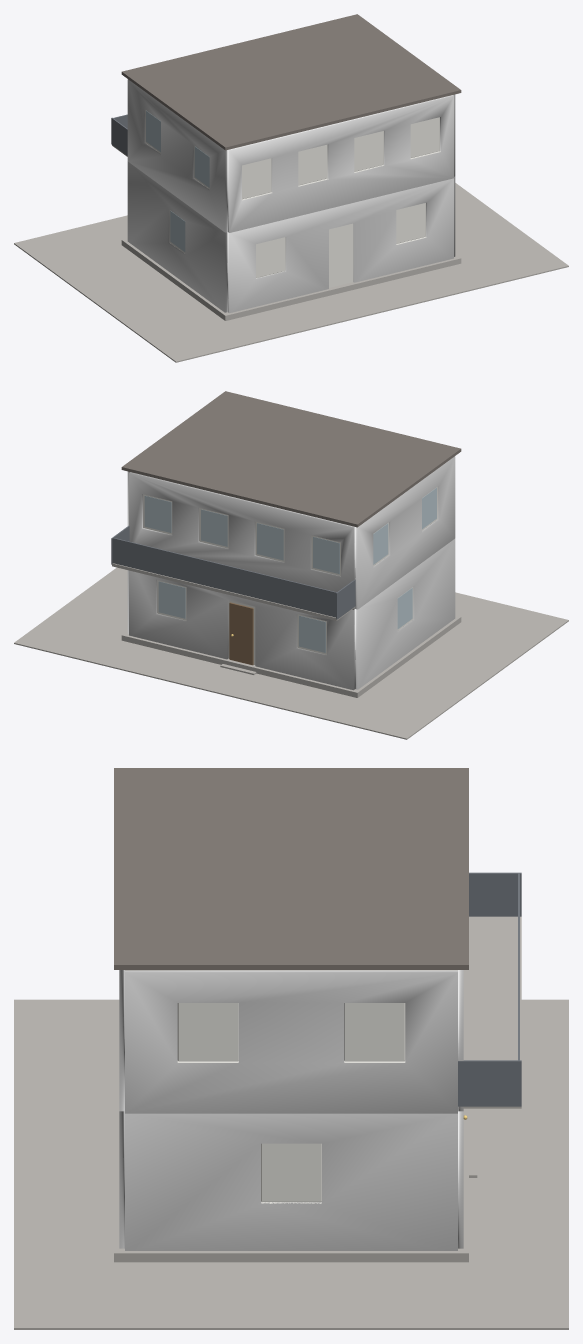
Rendered from apartment_small.glb.
3 views of the same model, one above another, from view 1: azimuth 30°, elevation 25°; view 2: azimuth 150°, elevation 25°; view 3: azimuth 270°, elevation 25° (orthographic). The views are drawn at different scales.
Visible parts, largest first — view 1: ground, roof, back_wall_uf, back_wall_gf, frame (×10), left_wall_gf, left_wall_uf, foundation, glass (×3), railing_left; view 2: ground, roof, front_wall_uf, front_wall_gf, frame (×9), left_wall_gf, left_wall_uf, glass (×9), railing_front, foundation, panel, balcony_slab (+1 smaller); view 3: ground, roof, right_wall_gf, right_wall_uf, frame (×3), balcony_slab, foundation, railing_right, railing_left, back_wall_uf, front_wall_gf, back_wall_gf.
Part boxes in pixels (x1,y1,x2,y2): ground: (14,183,568,362); roof: (121,14,461,150); back_wall_uf: (228,95,453,232); back_wall_gf: (228,178,453,313); frame (×10): (145,110,439,287); left_wall_gf: (127,161,227,312); left_wall_uf: (127,79,227,232); foundation: (121,238,461,320); glass (×3): (146,111,209,251); railing_left: (111,117,127,155); ground: (14,567,568,739); roof: (121,391,461,527); front_wall_uf: (129,472,354,609); front_wall_gf: (129,570,354,690); frame (×9): (143,487,437,654); left_wall_gf: (355,538,455,689); left_wall_uf: (355,456,455,609); glass (×9): (144,488,436,652); railing_front: (113,537,337,617); foundation: (121,615,461,697); panel: (229,602,253,665); balcony_slab: (112,563,354,620); ground: (14,999,568,1329); roof: (114,768,468,969); right_wall_gf: (125,1113,457,1250); right_wall_uf: (125,970,457,1113); frame (×3): (177,1003,405,1201); balcony_slab: (459,916,521,1108); foundation: (114,1056,468,1262); railing_right: (458,1060,521,1106); railing_left: (469,872,521,916); back_wall_uf: (119,970,124,1111); front_wall_gf: (458,1111,463,1248); back_wall_gf: (119,1111,124,1248).
Size of the model in its own units: 14 by 5.95 by 10.
